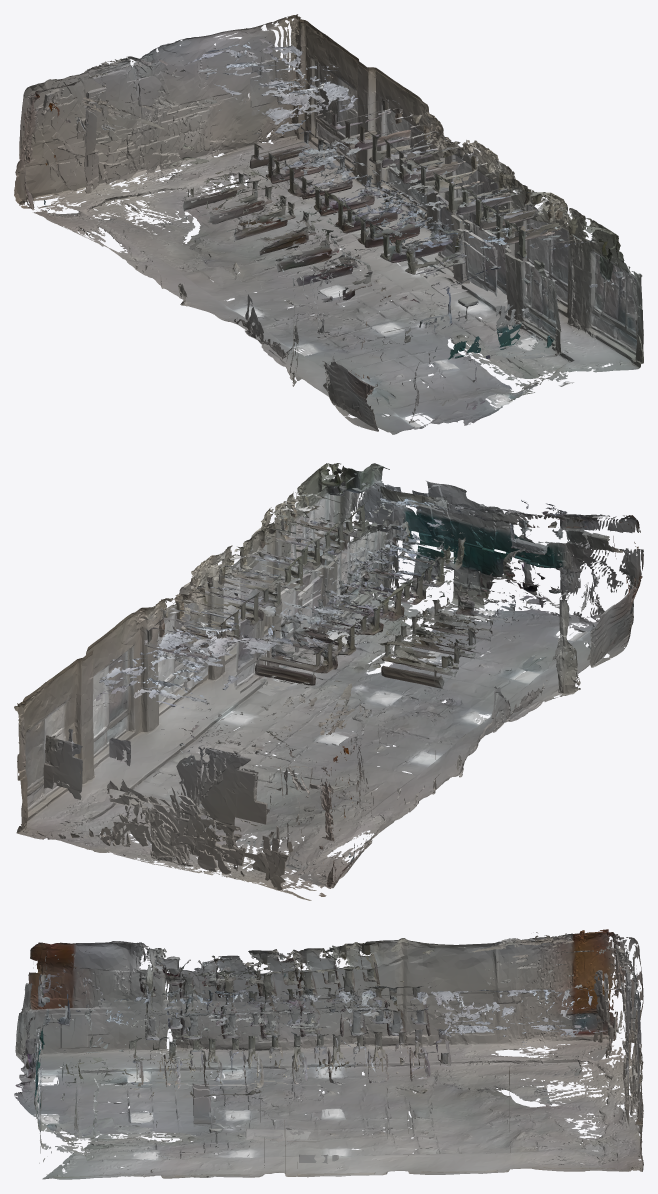
The picture shows the model from 3 angles, top to bottom: view 1: azimuth 30°, elevation 25°; view 2: azimuth 150°, elevation 25°; view 3: azimuth 270°, elevation 25°; orthographic projection. The views are drawn at different scales.
Parts seen in each view (by area): view 1: geometry_0; view 2: geometry_0; view 3: geometry_0.
Boxes of the visible parts, <box> form: geometry_0: <box>14,14,643,434</box>; geometry_0: <box>14,463,643,900</box>; geometry_0: <box>14,929,643,1179</box>.
Size of the model in its own units: 8.17 by 3.82 by 15.27.
